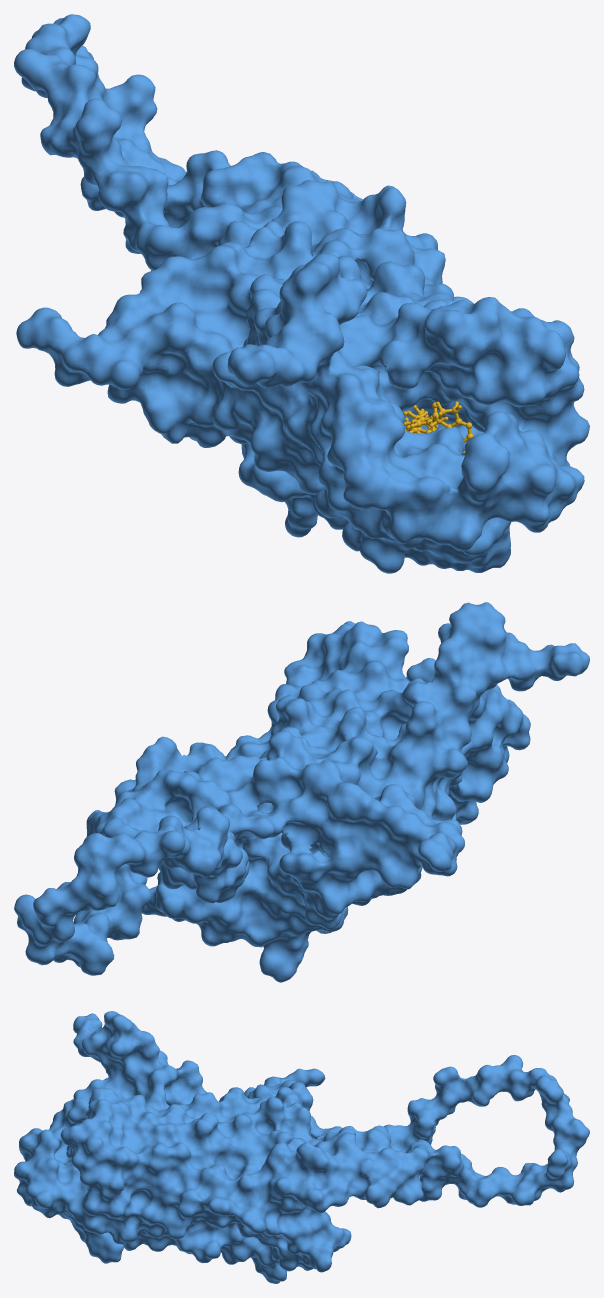
The model's file is website_main.glb.
The picture shows the model from 3 angles, top to bottom: view 1: azimuth 30°, elevation 25°; view 2: azimuth 150°, elevation 25°; view 3: azimuth 270°, elevation 25°; orthographic projection. The views are drawn at different scales.
Visible parts, largest first — view 1: 5.pdb_A SES surface, atoms; view 2: 5.pdb_A SES surface; view 3: 5.pdb_A SES surface.
Part boxes in pixels (box(x1,y1,x2,y2)): 5.pdb_A SES surface: box(14, 14, 589, 573); atoms: box(403, 401, 473, 453); 5.pdb_A SES surface: box(14, 602, 589, 982); 5.pdb_A SES surface: box(14, 1011, 589, 1283).
Size of what is drawn, in the model's own units: 57.23 by 52.42 by 115.
